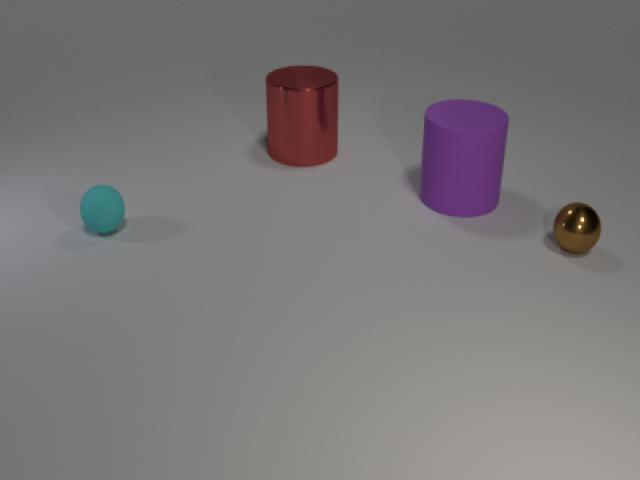cylinder: (412, 92, 516, 222), (260, 56, 347, 176)
round ball: (547, 193, 607, 260), (74, 178, 129, 241)
